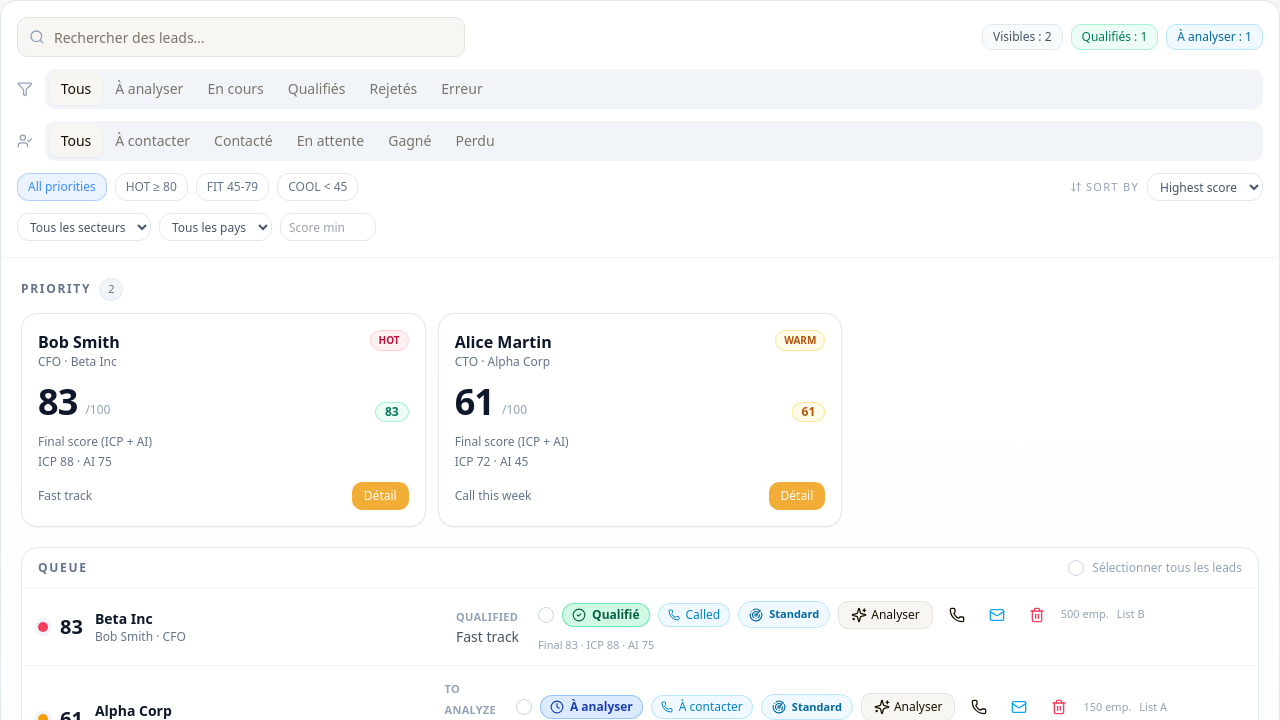
LeadsTable › shows delete confirmation dialog on single delete
What coordinates should you click on to do the following:
click the button named "Delete Alpha Corp"
I would click on:
 (1059, 707)
Its box is 1043,693 -> 1075,719.
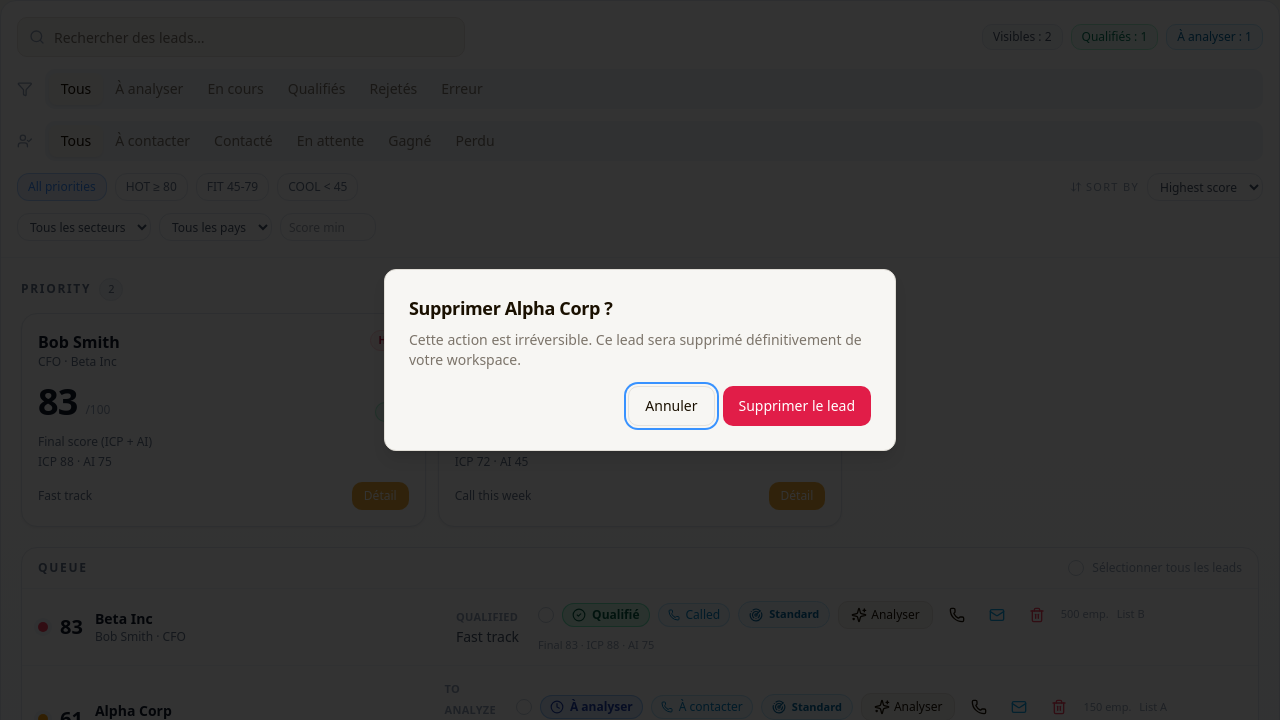
Now the heading "Supprimer Alpha Corp ?" is shown, box 409,296 -> 613,320
